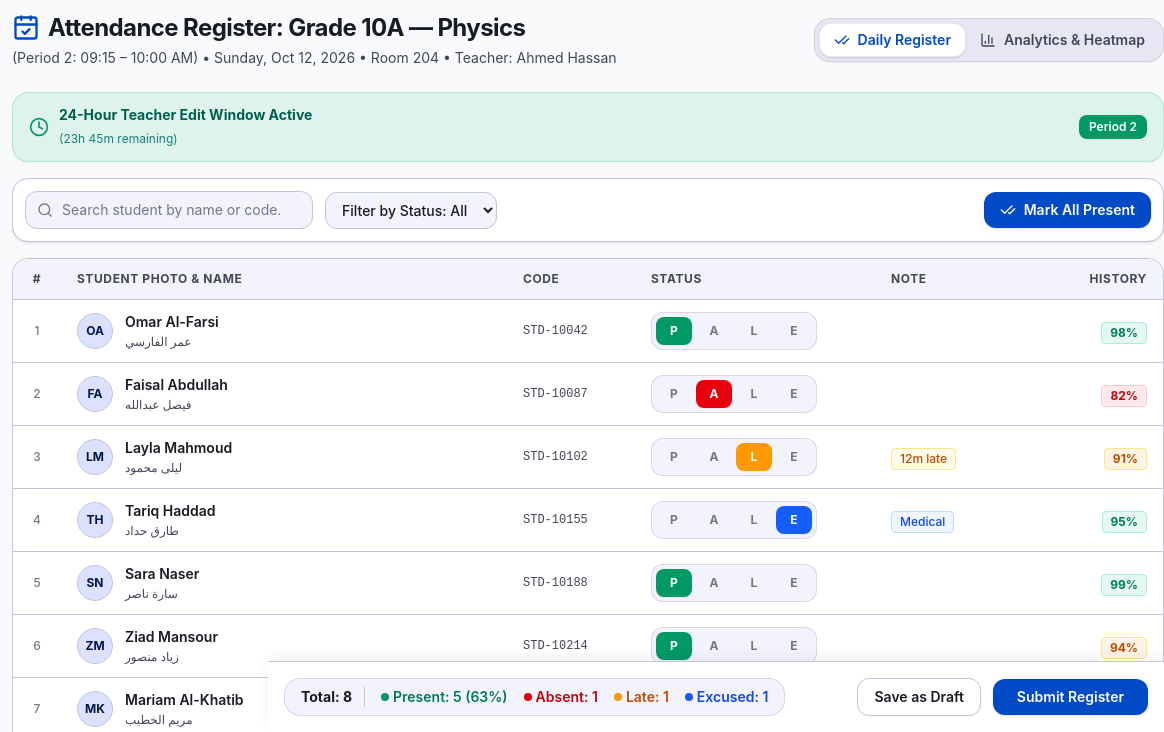
Scenario: AttendancePage (Attendance Register & Analytics Heatmap Stitch Clone) › filters students by search input
Type "Layla" into the field with placeholder "Search student by name or code...".
click(169, 210); type("Layla")  # box [25,191,313,229]
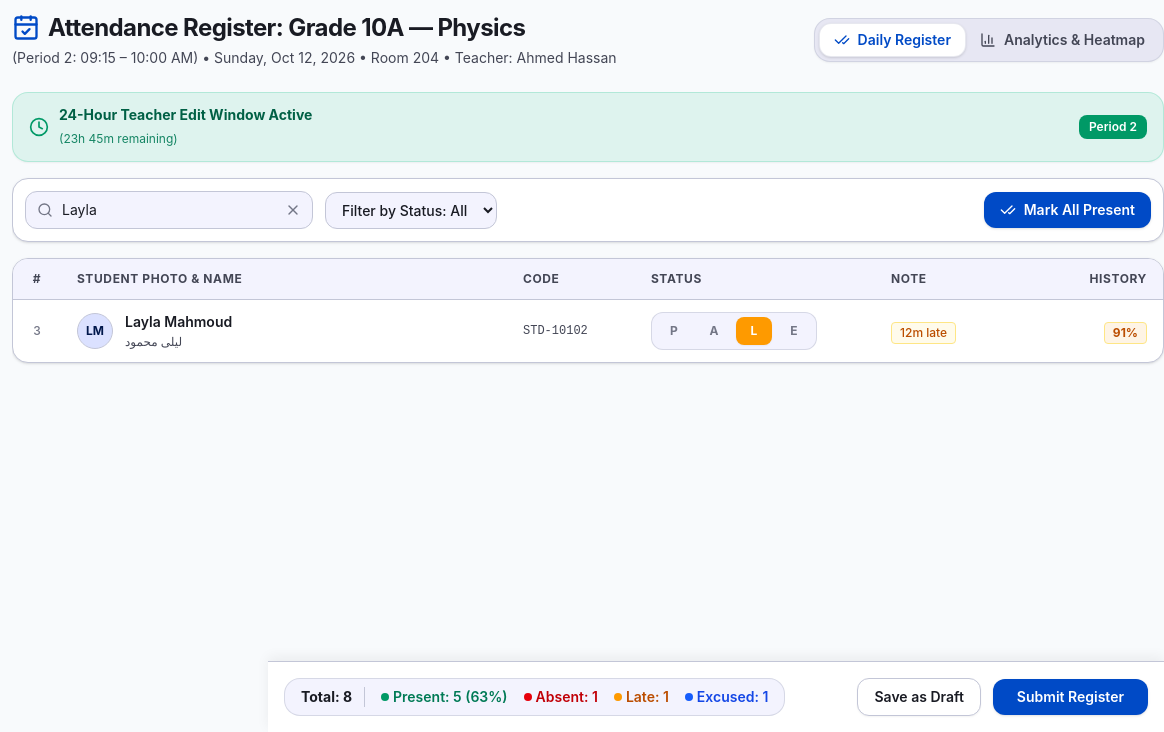
Expected: the text "Layla Mahmoud" is shown, [125,312,232,332]
Now the text "Omar Al-Farsi" is gone
Now the text "Faisal Abdullah" is gone
